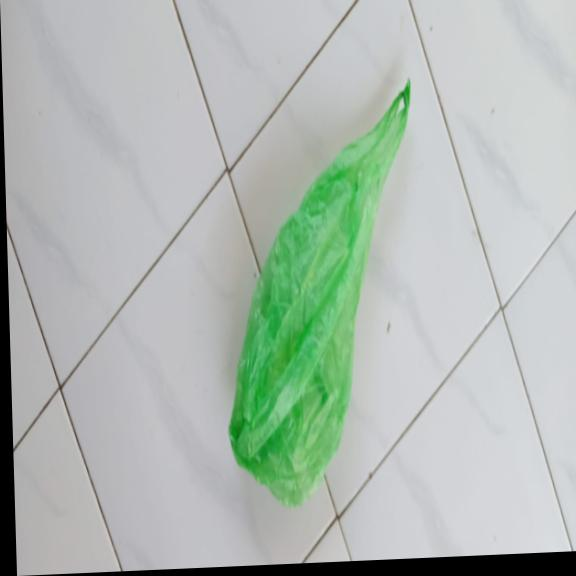Plastik: (218, 77, 424, 510)
